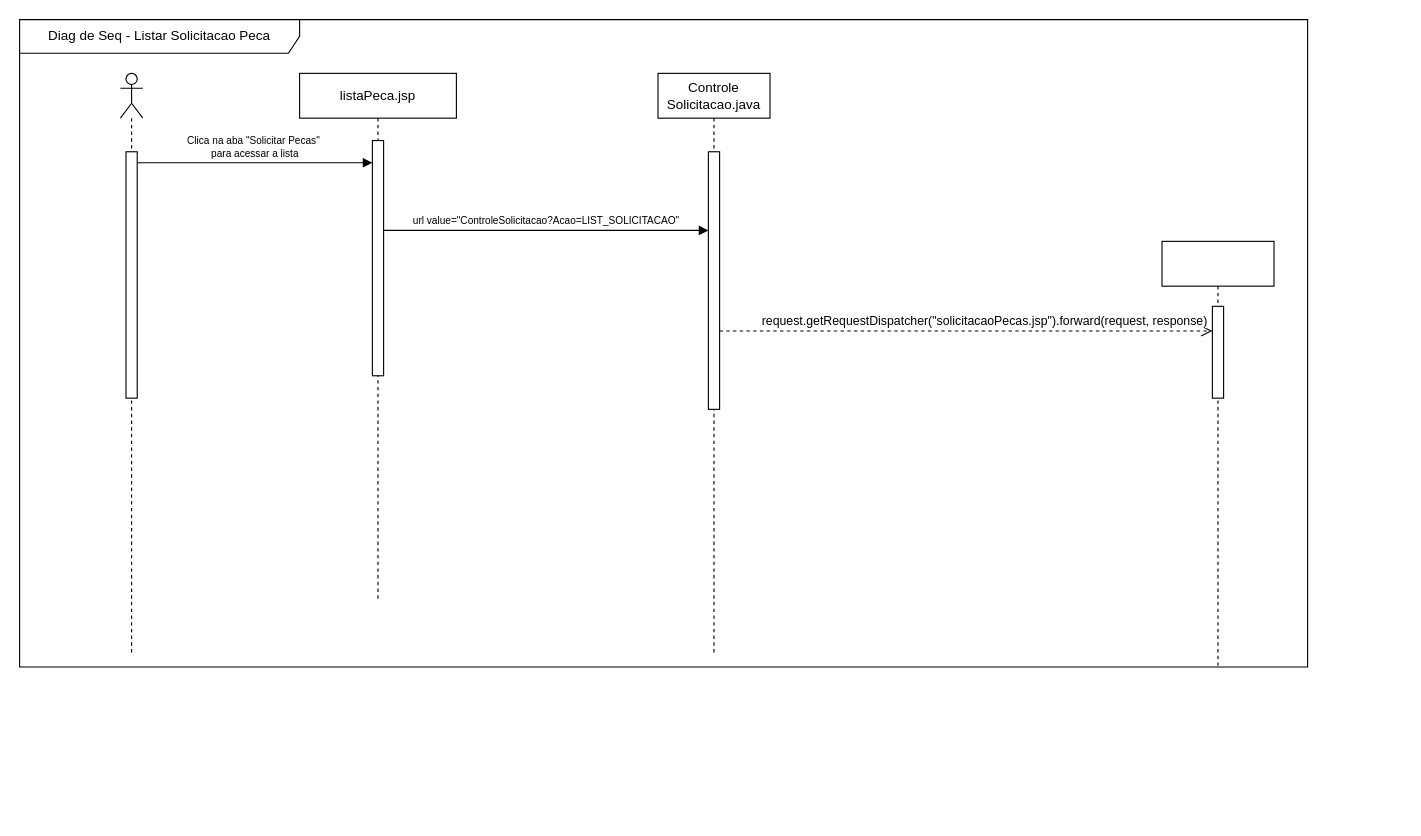
Some shapes in this 1421 by 836 pixel diagram are drawn without their labels. The box of each missing label's shape, as (x1, y1, x2, y2) in pixels:
Atendente,Gerente,Administrador: (119, 72, 143, 656)
Fornecedor .java: (1161, 240, 1274, 667)
